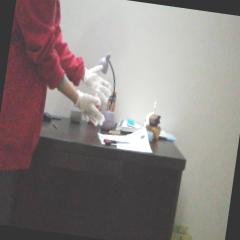gloved: (80, 62, 116, 102), (73, 90, 107, 128)
